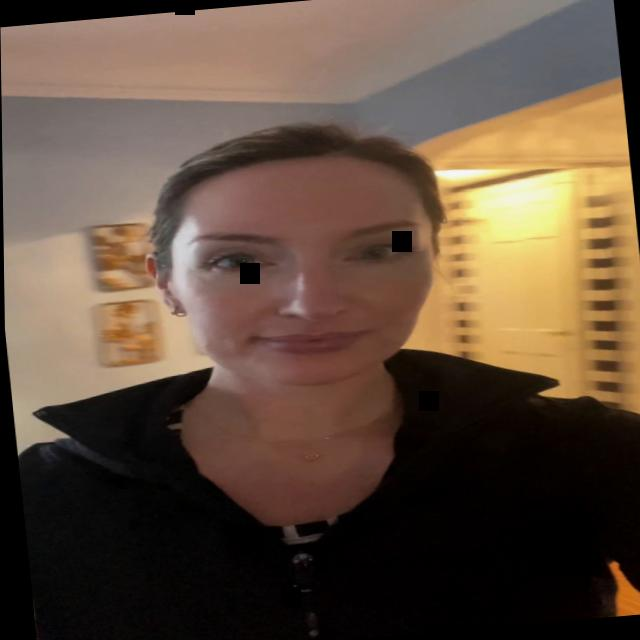NO-Mask: (154, 141, 456, 400)
